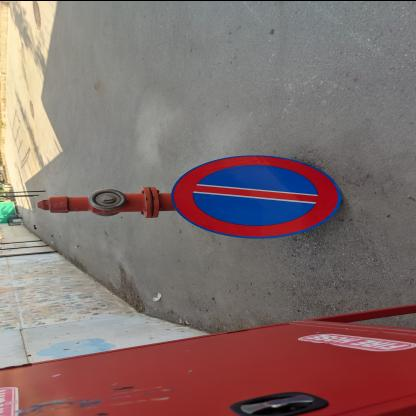No Waiting: (172, 155, 342, 239)
